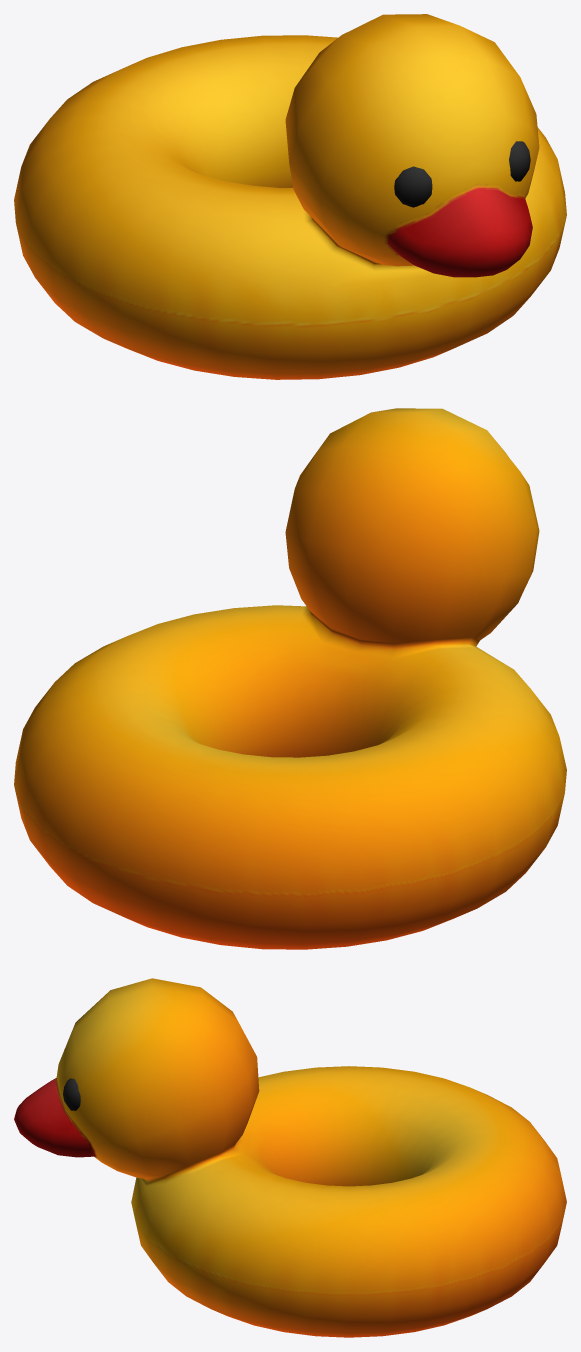
The model's file is Phao4.fbx.
3 renders of one model, top to bottom at view 1: azimuth 30°, elevation 25°; view 2: azimuth 150°, elevation 25°; view 3: azimuth 270°, elevation 25°, orthographic. The views are drawn at different scales.
Visible parts, largest first — view 1: DuckRing_DuckRing_0.001; view 2: DuckRing_DuckRing_0.001; view 3: DuckRing_DuckRing_0.001.
Boxes of the visible parts, bbox=[...] form: DuckRing_DuckRing_0.001: bbox=[14, 14, 566, 379]; DuckRing_DuckRing_0.001: bbox=[14, 408, 566, 949]; DuckRing_DuckRing_0.001: bbox=[14, 978, 566, 1337].
Bounding box in the file's own units: 1.38 × 0.9874 × 1.75.
